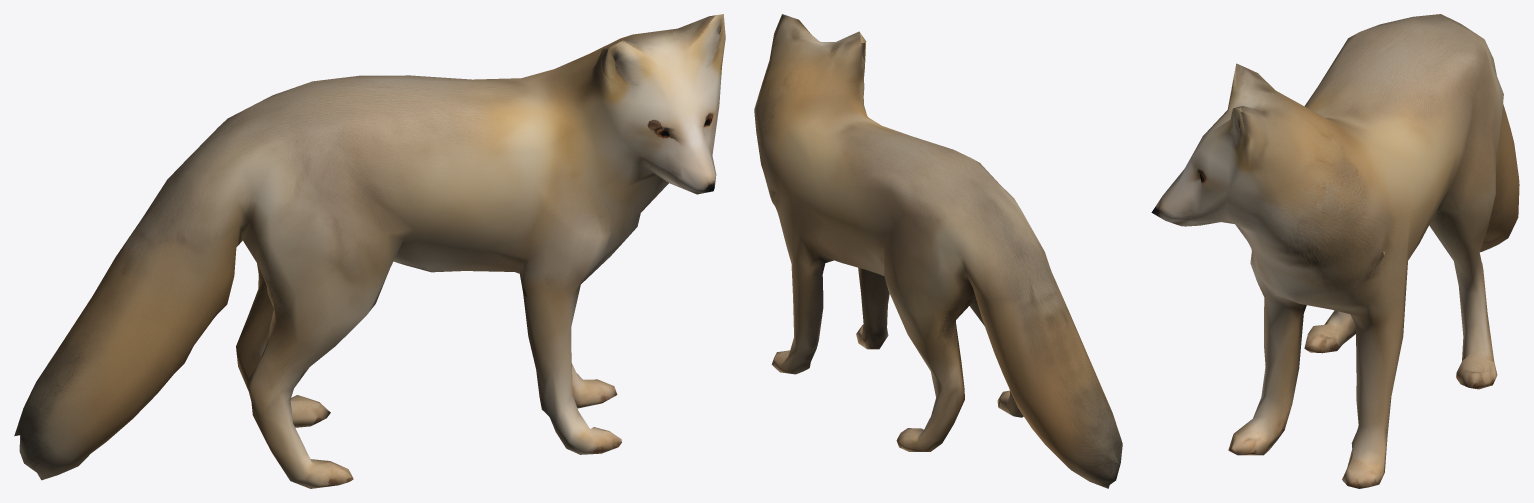
The model's file is fox_arctic_single_1500.glb.
The picture shows the model from 3 angles, left to right: view 1: azimuth 30°, elevation 25°; view 2: azimuth 150°, elevation 25°; view 3: azimuth 270°, elevation 25°; orthographic projection. The views are drawn at different scales.
Size of the model in its own units: 0.8855 by 0.6084 by 0.4917.
Materials: 1 (1 with a texture image).
